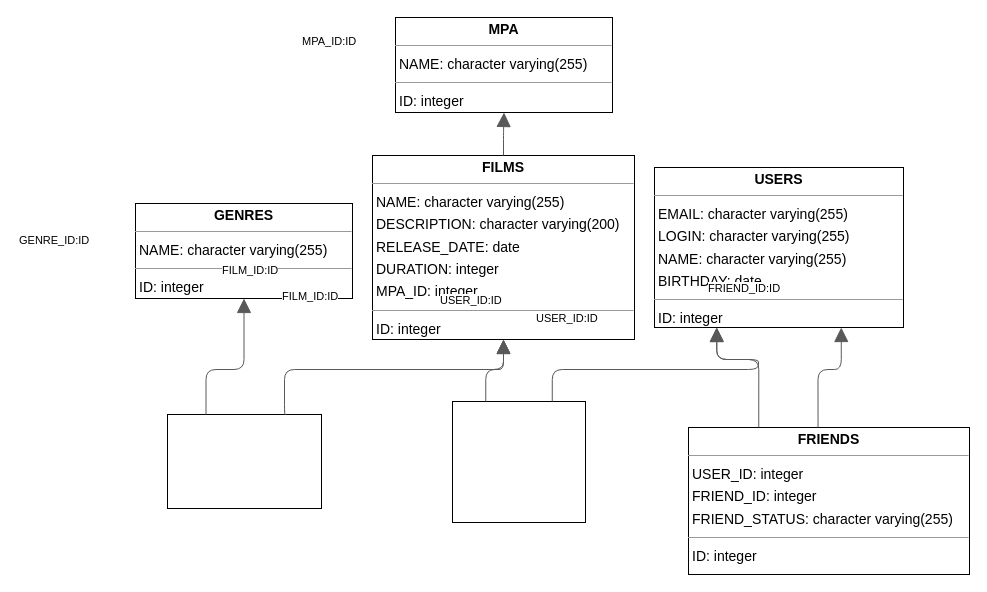
Image size: 987x592. Some labels were removed from this diagram. The box of each missing label's shape, as (x1, y1, x2, y2) in pixels:
FILM_GENRES FILM_ID: integer GENRE_ID: integer: (166, 414, 322, 508)
LIKES USER_ID: integer FILM_ID: integer ID: integer: (452, 400, 586, 522)
